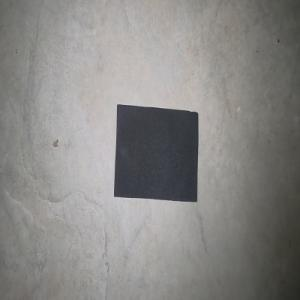PaintChip: (113, 104, 198, 201)
